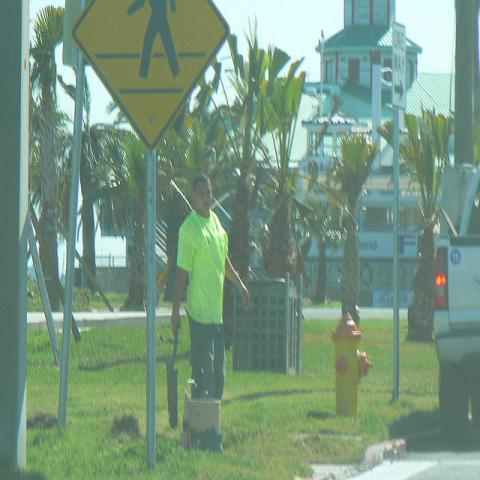truck: (432, 158, 479, 453)
